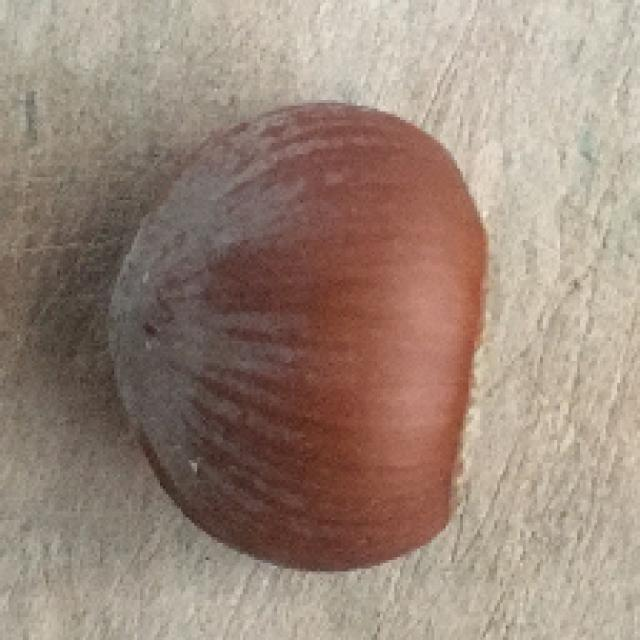qualityHazelnut: (99, 94, 492, 576)
